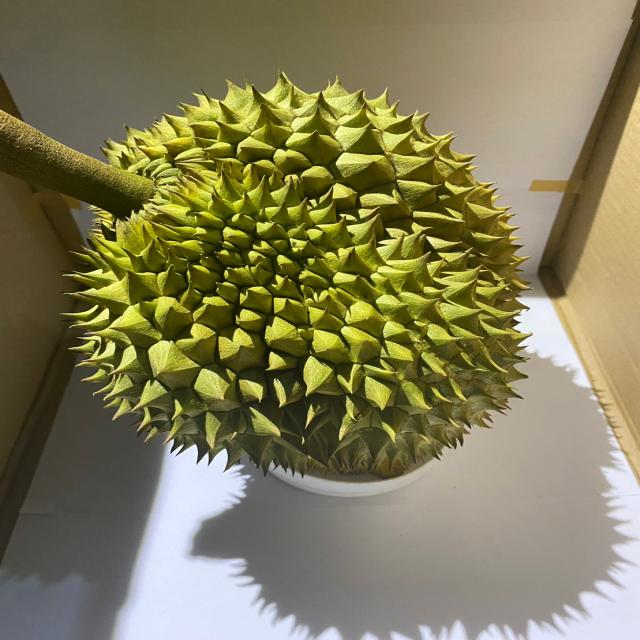immature: (55, 71, 535, 480)
